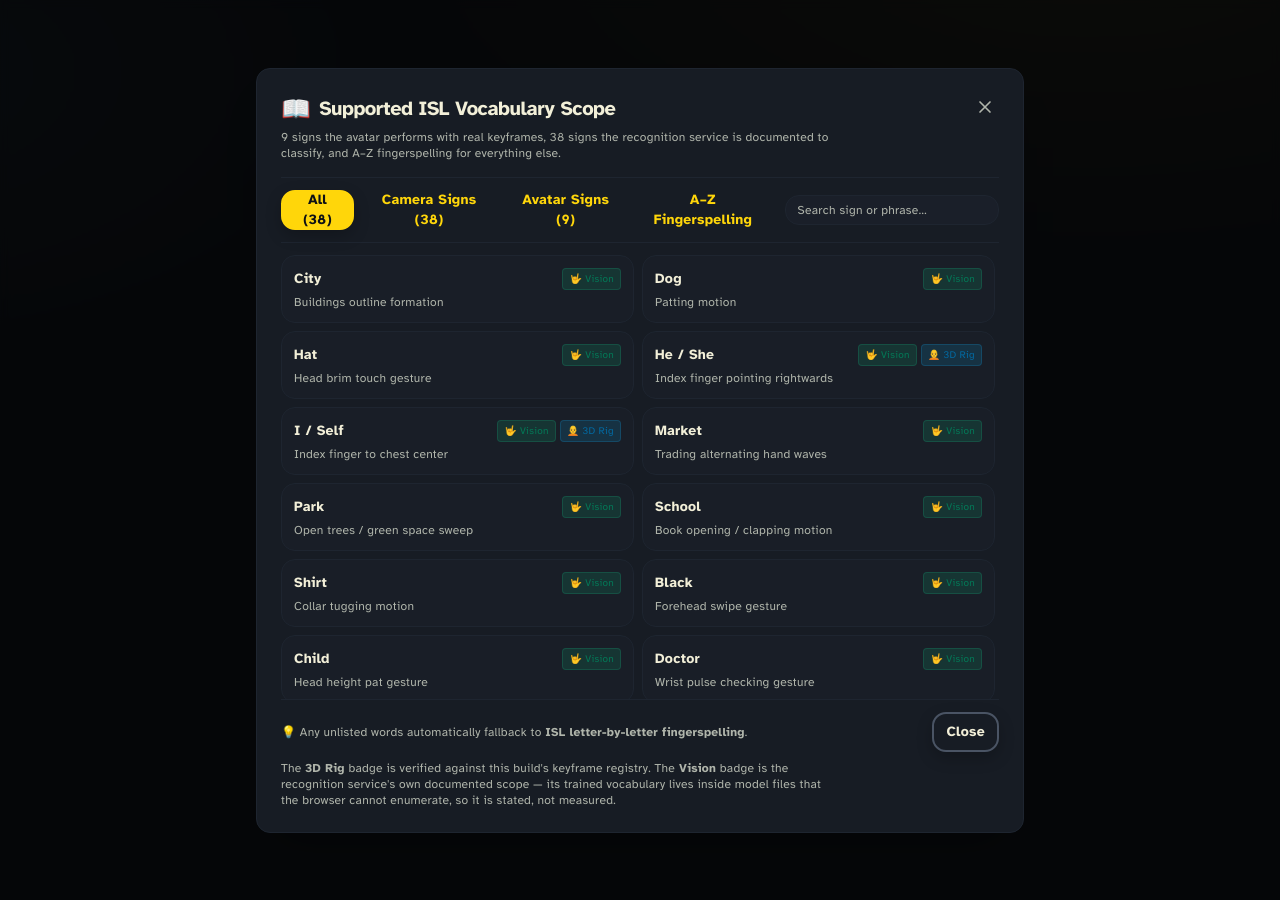
Test case: SupportedVocabularyModal scope disclosure › derives the avatar tab count from the same keyframe check as the badges
Click the tab "Avatar Signs (9)".
click(566, 210)  # box [504,190,627,230]
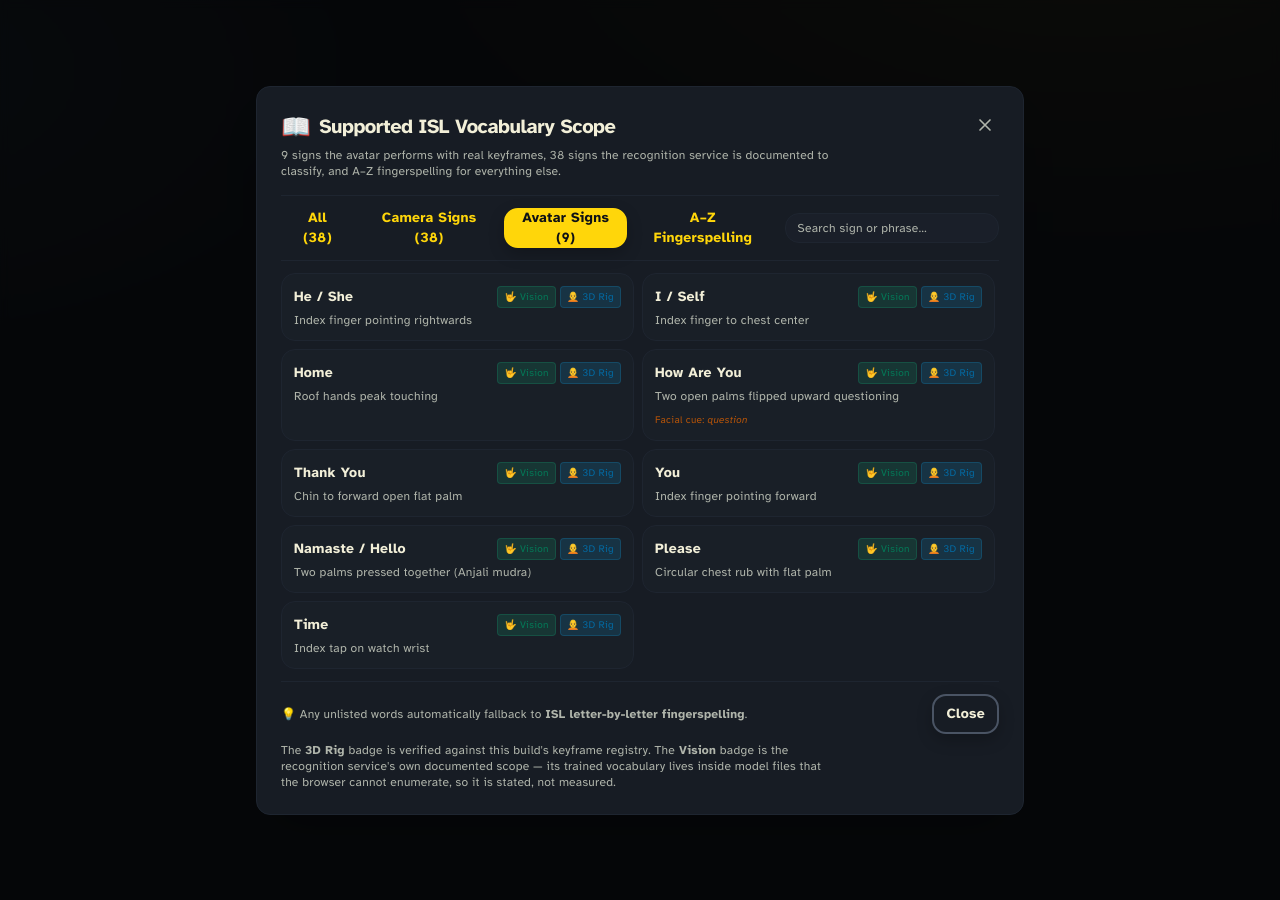
Expected: the text "Thank You" is shown, [294,462,366,482]
